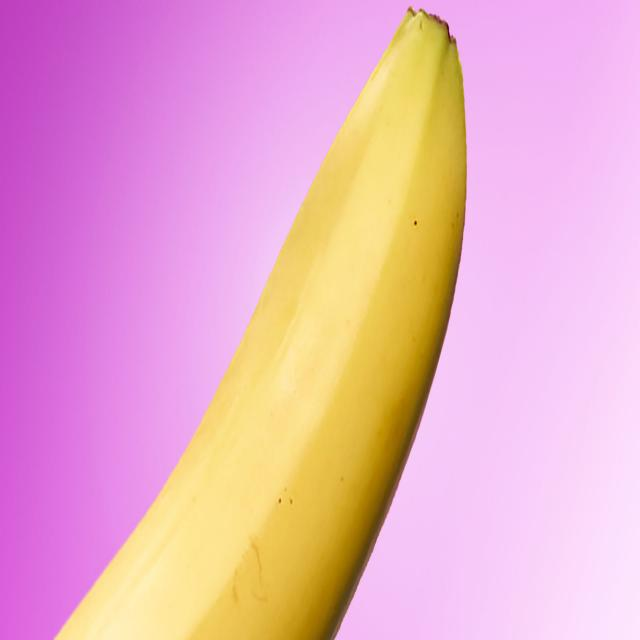banana: (46, 0, 470, 640)
